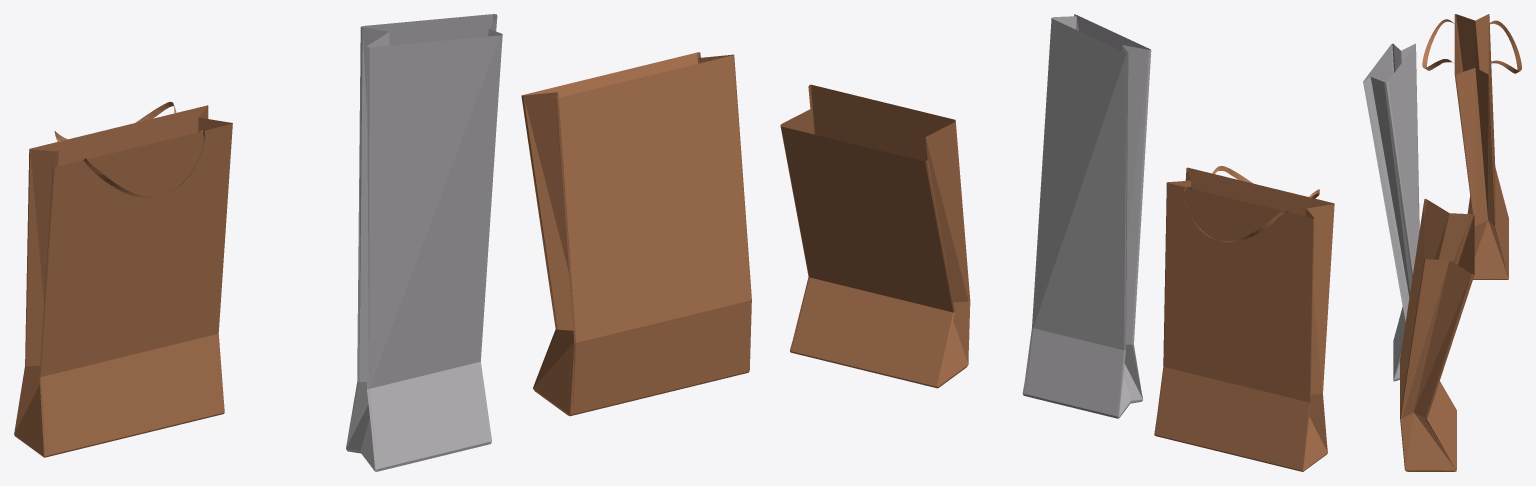
File: paper bag.fbx
The picture shows the model from 3 angles, left to right: view 1: azimuth 30°, elevation 25°; view 2: azimuth 150°, elevation 25°; view 3: azimuth 270°, elevation 25°; orthographic projection. The views are drawn at different scales.
Visible parts, largest first — view 1: node_id4, node_id6, node_id5; view 2: node_id4, node_id6, node_id5; view 3: node_id4, node_id6, node_id5.
Boxes of the visible parts, bbox=[...] form: node_id4: bbox=[521, 52, 751, 416]; node_id6: bbox=[14, 101, 232, 457]; node_id5: bbox=[346, 14, 502, 471]; node_id4: bbox=[780, 84, 970, 388]; node_id6: bbox=[1154, 166, 1334, 471]; node_id5: bbox=[1022, 14, 1151, 418]; node_id4: bbox=[1400, 198, 1474, 471]; node_id6: bbox=[1422, 14, 1521, 279]; node_id5: bbox=[1363, 43, 1419, 381].
Bounding box in the file's own units: 0.512 × 0.3224 × 0.1543.
4 materials, 4 textured.
